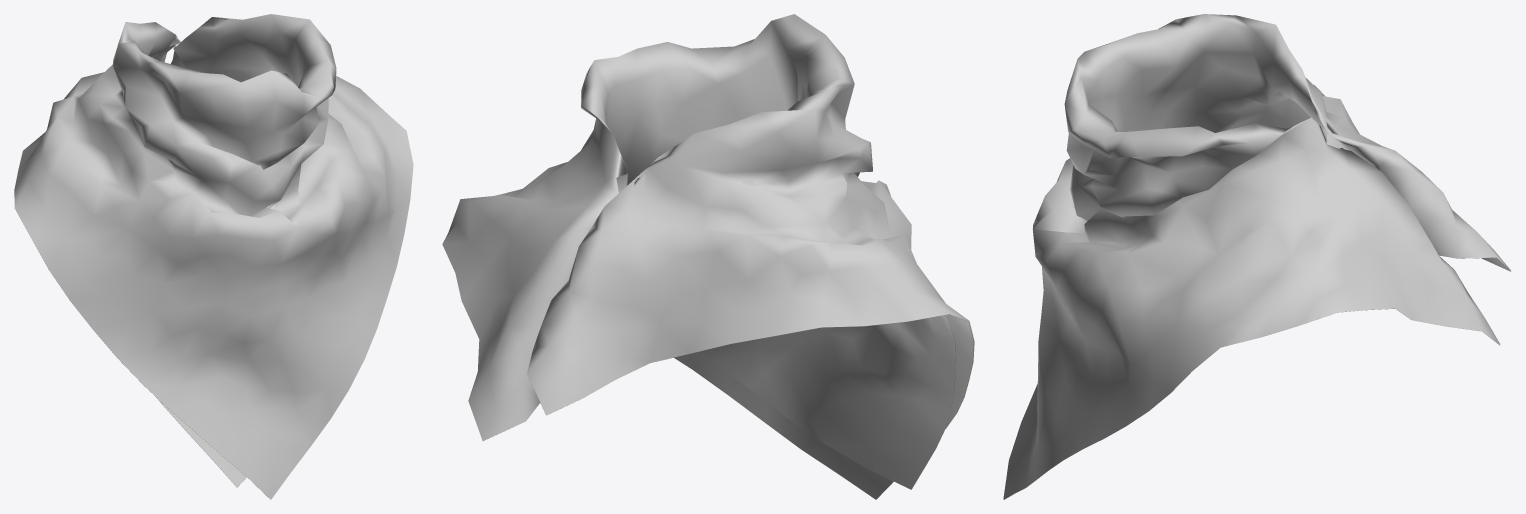
3 views of the same model, side by side, from view 1: azimuth 30°, elevation 25°; view 2: azimuth 150°, elevation 25°; view 3: azimuth 270°, elevation 25° (orthographic). The views are drawn at different scales.
Parts seen in each view (by area): view 1: MatShape_6706, Pattern2D_9950; view 2: MatShape_6706, Pattern2D_9950; view 3: MatShape_6706, Pattern2D_9950.
Boxes of the visible parts, left/top/right/bottom form: MatShape_6706: left=14, top=14, right=413, bottom=499; Pattern2D_9950: left=17, top=17, right=300, bottom=499; MatShape_6706: left=442, top=14, right=974, bottom=489; Pattern2D_9950: left=483, top=85, right=973, bottom=499; MatShape_6706: left=1003, top=14, right=1510, bottom=499; Pattern2D_9950: left=1004, top=16, right=1510, bottom=499.
Size of the model in its own units: 24.03 by 23.67 by 23.71.
